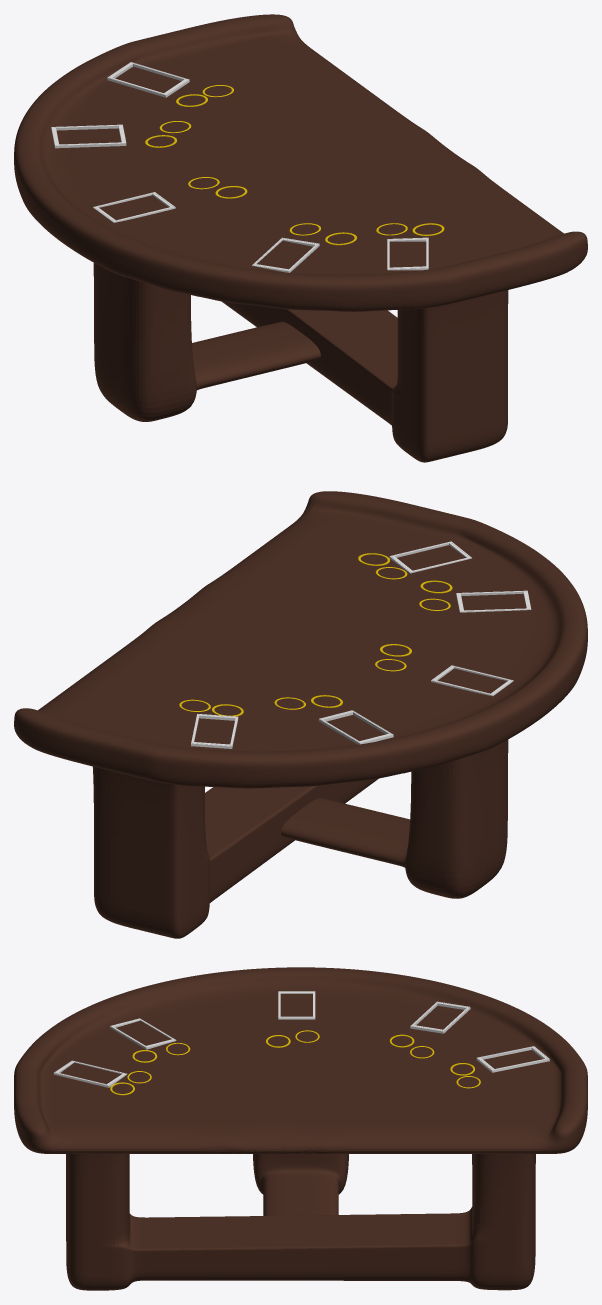
File: Red_Poker_Table_w_Rings.fbx
The picture shows the model from 3 angles, top to bottom: view 1: azimuth 30°, elevation 25°; view 2: azimuth 150°, elevation 25°; view 3: azimuth 270°, elevation 25°; orthographic projection. The views are drawn at different scales.
Visible parts, largest first — view 1: Cylinder.013, Cube.082, Cube.070, Cube.069; view 2: Cylinder.013, Cube.070, Cube.083, Cube.071, Cube.082, Cube.069; view 3: Cylinder.013, Cube.082, Cube.070, Cube.083, Cube.071.
Part boxes in pixels (x1,y1,x2,y2): Cylinder.013: (14, 14, 587, 462); Cube.082: (107, 62, 189, 97); Cube.070: (51, 124, 126, 148); Cube.069: (93, 192, 175, 222); Cylinder.013: (14, 491, 587, 938); Cube.070: (318, 710, 393, 744); Cube.083: (389, 541, 471, 573); Cube.071: (456, 590, 531, 612); Cube.082: (191, 714, 238, 748); Cube.069: (431, 665, 513, 696); Cylinder.013: (14, 967, 587, 1290); Cube.082: (476, 1046, 549, 1072); Cube.070: (410, 1001, 470, 1033); Cube.083: (53, 1060, 127, 1087); Cube.071: (109, 1018, 176, 1049).
Bounding box in the file's own units: 19415 × 10513 × 28382.
